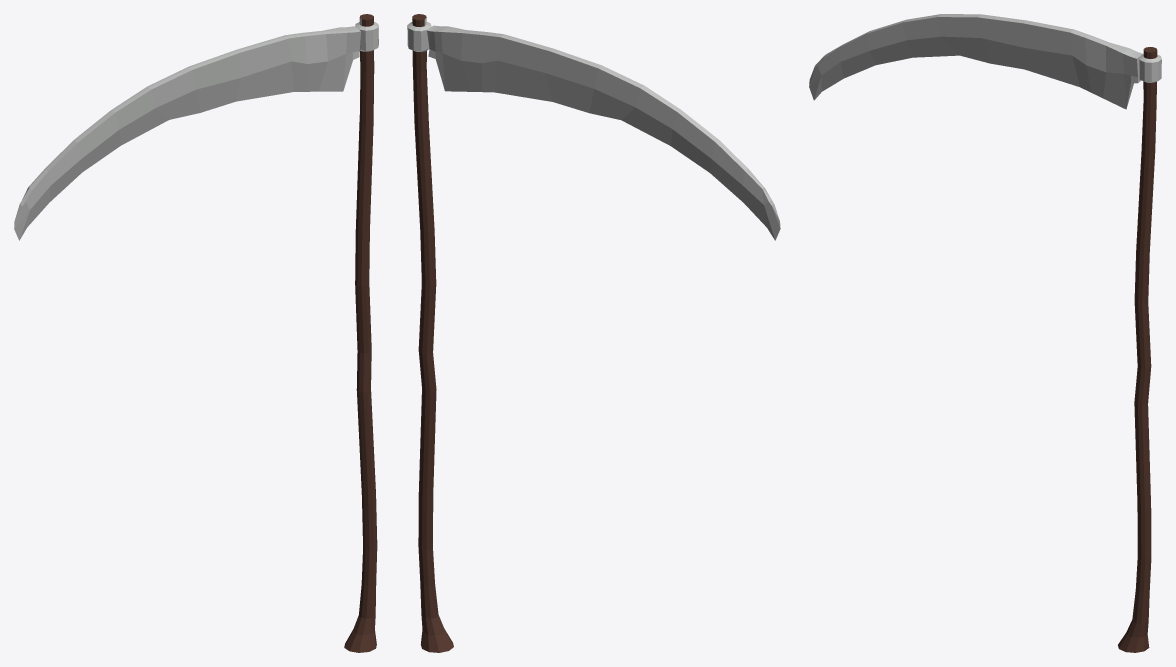
The model's file is Foice.fbx.
The picture shows the model from 3 angles, left to right: view 1: azimuth 30°, elevation 25°; view 2: azimuth 150°, elevation 25°; view 3: azimuth 330°, elevation 25°; orthographic projection. The views are drawn at different scales.
Visible parts, largest first — view 1: Foice; view 2: Foice; view 3: Foice.
Boxes of the visible parts, x1,y1,x2,y2 form: Foice: (14, 14, 378, 652); Foice: (407, 14, 780, 652); Foice: (809, 14, 1161, 652).
Bounding box in the file's own units: 132 × 215 × 12.63.
